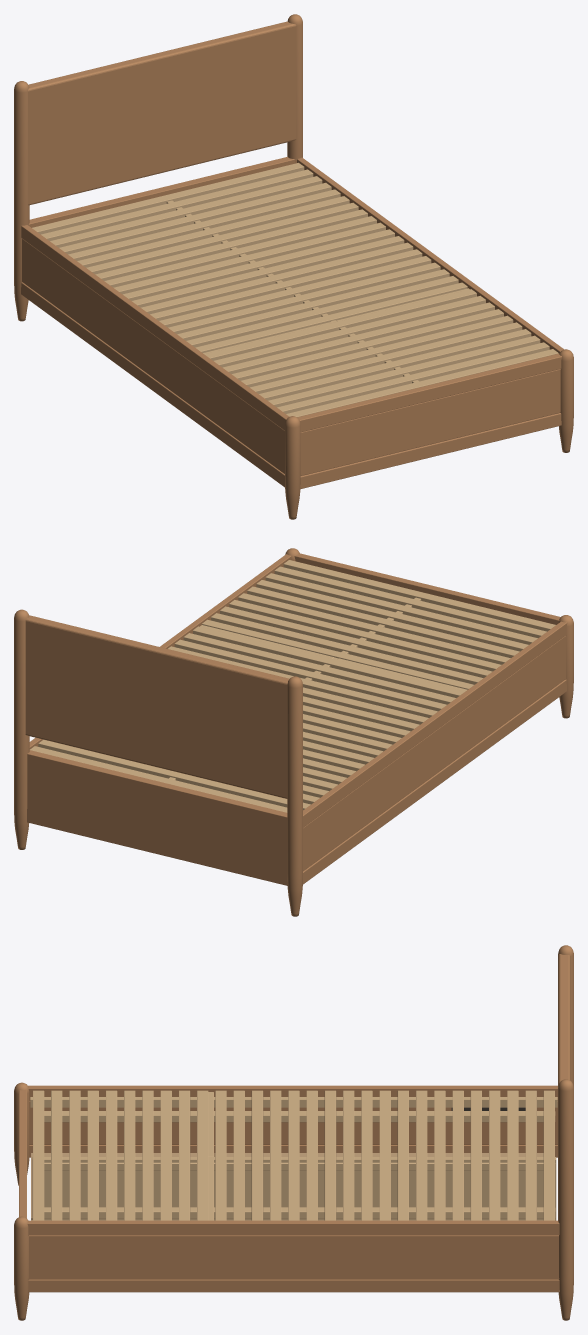
Rendered from bed-yeswood-y17b02-v1.glb.
The picture shows the model from 3 angles, top to bottom: view 1: azimuth 30°, elevation 25°; view 2: azimuth 150°, elevation 25°; view 3: azimuth 270°, elevation 25°; orthographic projection.
Parts seen in each view (by area): view 1: Cherry straight headboard, Cherry side L middle board, Cherry foot middle board, Cherry side L upper rail, Cherry foot upper rail, Cherry side L lower rail, Cherry foot lower rail, Cherry head post L, Pine lift slat 23, Pine lift slat 29, Pine lift slat 05, Pine lift slat 06 (+30 smaller); view 2: Cherry straight headboard, Cherry rear box rail, Cherry side L middle board, Cherry side L upper rail, Cherry head post L, Cherry side L lower rail, Cherry head post R, Cherry foot upper rail, Pine lift slat 02, Pine lift slat 04, Pine lift slat 05, Pine lift slat 08 (+23 smaller); view 3: Cherry side R middle board, Pine central divider, Cherry side R upper rail, Cherry side R lower rail, Cherry side L middle board, Cherry side L upper rail, Cherry head post R, Pine lift brace right, Pine lift brace left, Pine slat bearer L, Pine lift brace centre, Cherry side L lower rail (+35 smaller).
Part boxes in pixels (x1=…): Cherry straight headboard: x1=28, y1=21, x2=296, y2=205; Cherry side L middle board: x1=22, y1=238, x2=284, y2=473; Cherry foot middle board: x1=300, y1=369, x2=560, y2=475; Cherry side L upper rail: x1=21, y1=225, x2=289, y2=430; Cherry foot upper rail: x1=297, y1=353, x2=561, y2=432; Cherry side L lower rail: x1=21, y1=282, x2=284, y2=487; Cherry foot lower rail: x1=300, y1=413, x2=561, y2=489; Cherry head post L: x1=14, y1=81, x2=29, y2=321; Pine lift slat 23: x1=86, y1=202, x2=358, y2=274; Pine lift slat 29: x1=32, y1=162, x2=304, y2=234; Pine lift slat 05: x1=250, y1=322, x2=522, y2=393; Pine lift slat 06: x1=241, y1=315, x2=513, y2=387; Cherry straight headboard: x1=25, y1=615, x2=289, y2=798; Cherry rear box rail: x1=27, y1=750, x2=287, y2=885; Cherry side L middle board: x1=303, y1=635, x2=565, y2=870; Cherry side L upper rail: x1=303, y1=621, x2=567, y2=827; Cherry head post L: x1=287, y1=676, x2=302, y2=916; Cherry side L lower rail: x1=303, y1=679, x2=566, y2=884; Cherry head post R: x1=14, y1=609, x2=29, y2=849; Cherry foot upper rail: x1=294, y1=553, x2=560, y2=624; Pine lift slat 02: x1=274, y1=566, x2=546, y2=637; Pine lift slat 04: x1=256, y1=580, x2=528, y2=651; Pine lift slat 05: x1=247, y1=586, x2=519, y2=657; Pine lift slat 08: x1=220, y1=606, x2=492, y2=677; Cherry side R middle board: x1=28, y1=1235, x2=559, y2=1279; Pine central divider: x1=32, y1=1157, x2=556, y2=1220; Cherry side R upper rail: x1=27, y1=1220, x2=559, y2=1235; Cherry side R lower rail: x1=28, y1=1279, x2=559, y2=1292; Cherry side L middle board: x1=29, y1=1101, x2=557, y2=1144; Cherry side L upper rail: x1=28, y1=1085, x2=557, y2=1100; Cherry head post R: x1=558, y1=1079, x2=573, y2=1320; Pine lift brace right: x1=44, y1=1207, x2=555, y2=1218; Pine lift brace left: x1=44, y1=1111, x2=555, y2=1122; Pine slat bearer L: x1=30, y1=1097, x2=557, y2=1107; Pine lift brace centre: x1=44, y1=1162, x2=555, y2=1170; Cherry side L lower rail: x1=29, y1=1145, x2=557, y2=1157.
Size of the model in its own units: 1.26 by 1 by 2.12.
